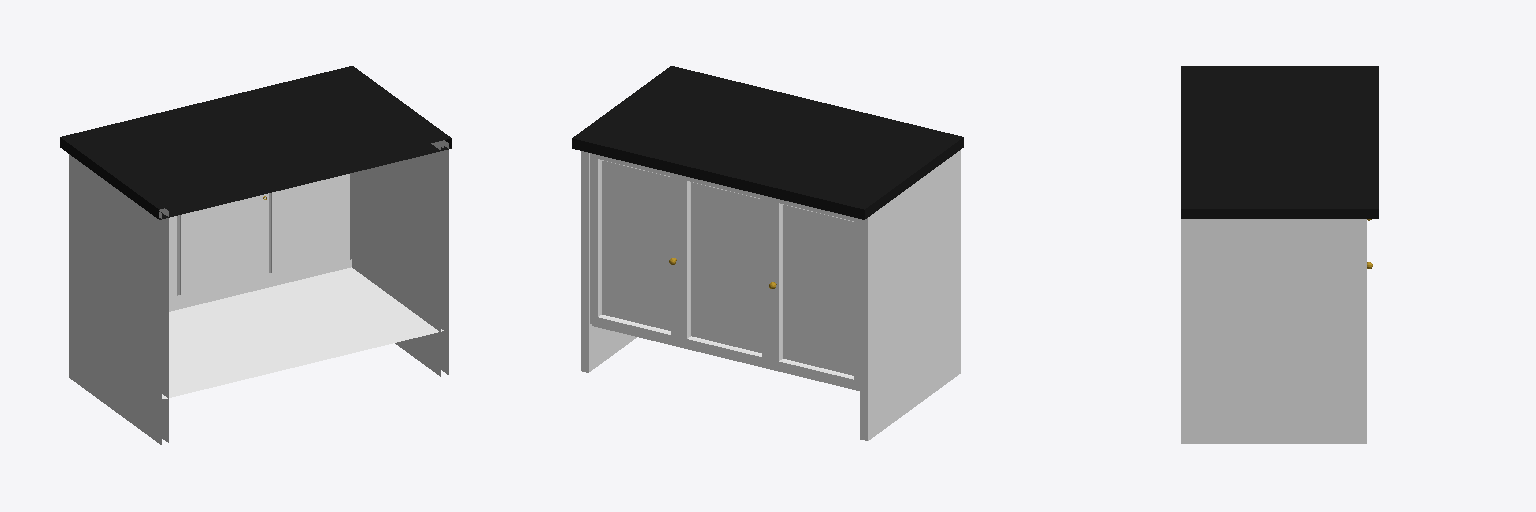
The model's file is kitchenCabinet2.obj.
The picture shows the model from 3 angles: view 1: azimuth 30°, elevation 25°; view 2: azimuth 150°, elevation 25°; view 3: azimuth 270°, elevation 25°; orthographic projection.
Parts seen in each view (by area): view 1: kitchenCabinet2; view 2: kitchenCabinet2; view 3: kitchenCabinet2.
Boxes of the visible parts, <box> form: kitchenCabinet2: <box>60,66,451,444</box>; kitchenCabinet2: <box>572,66,963,440</box>; kitchenCabinet2: <box>1181,66,1378,443</box>.
Bounding box in the file's own units: 1.28 × 0.9889 × 0.7526.